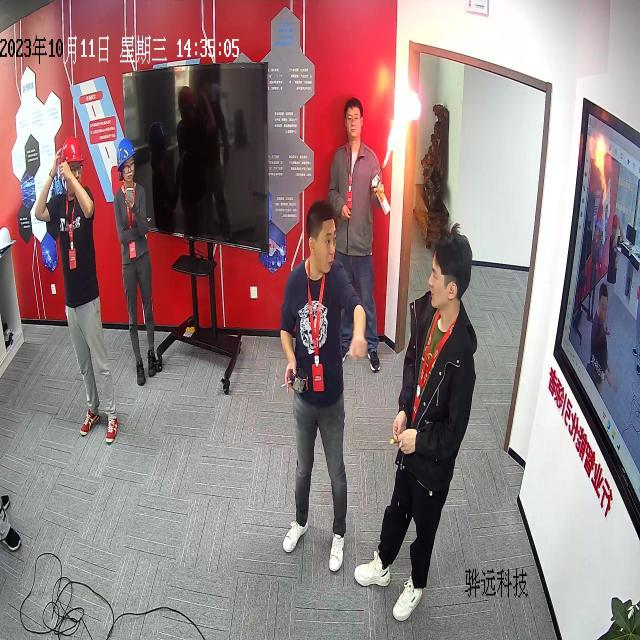Fire: (384, 89, 421, 169)
